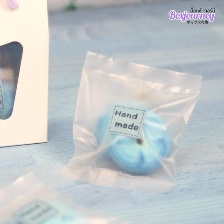snack: (53, 46, 208, 197)
